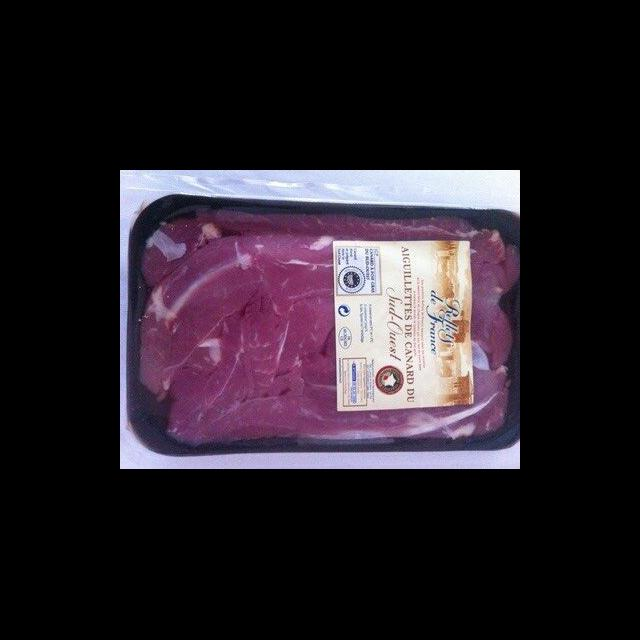beef: (140, 215, 515, 446)
